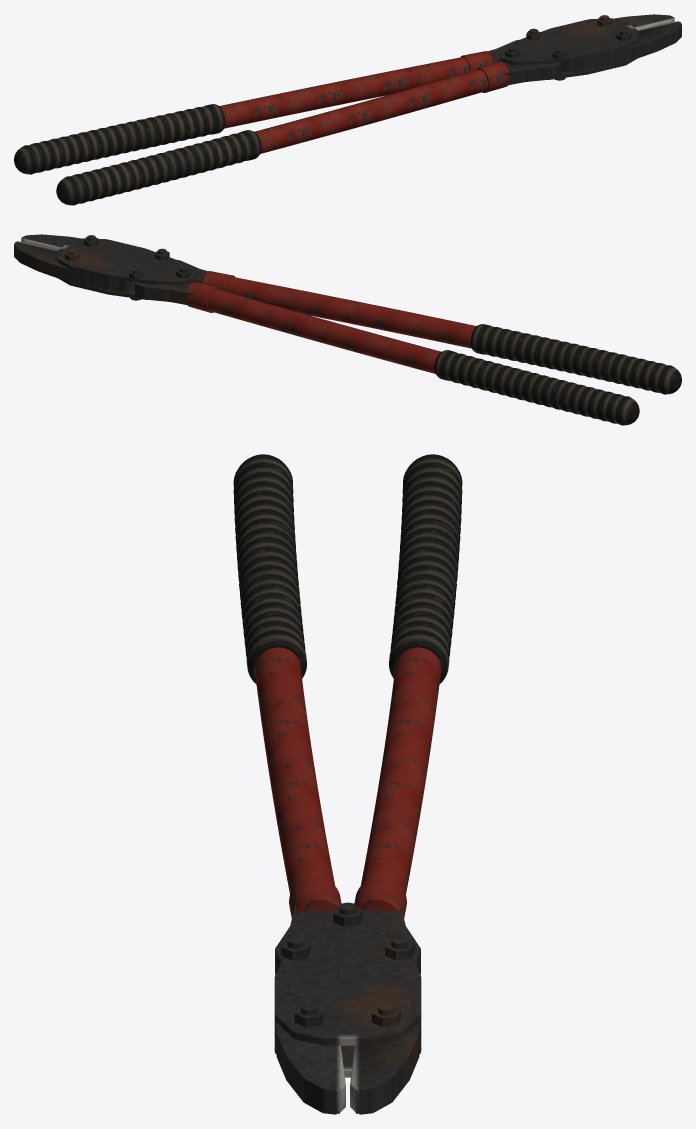
File: BoltCutter.glb
3 renders of one model, top to bottom at view 1: azimuth 30°, elevation 25°; view 2: azimuth 150°, elevation 25°; view 3: azimuth 270°, elevation 25°, orthographic. The views are drawn at different scales.
Parts seen in each view (by area): view 1: Grip_Upper, Grip_Lower, HandleTube_Upper, HandleTube_Lower, HeadPlate_Top, Jaw_Lower, HandleHead_Lower, Bolts, Ferrule_Lower, Jaw_Upper, Ferrule_Upper, HeadPlate_Bottom; view 2: Grip_Lower, Grip_Upper, HandleTube_Lower, HandleTube_Upper, HeadPlate_Top, Jaw_Upper, HandleHead_Upper, Bolts, Ferrule_Upper, Jaw_Lower, Ferrule_Lower, HeadPlate_Bottom; view 3: HeadPlate_Top, Grip_Lower, Grip_Upper, HandleTube_Lower, HandleTube_Upper, Jaw_Lower, Jaw_Upper, Bolts, Ferrule_Lower, Ferrule_Upper.
Boxes of the visible parts, box(x1,y1,x2,y2) form: Grip_Upper: box(14, 104, 225, 174); Grip_Lower: box(56, 130, 261, 205); HandleTube_Upper: box(220, 57, 469, 128); HandleTube_Lower: box(254, 69, 487, 153); HeadPlate_Top: box(500, 18, 639, 65); Jaw_Lower: box(560, 21, 681, 72); HandleHead_Lower: box(502, 62, 560, 86); Bolts: box(505, 15, 631, 80); Ferrule_Lower: box(476, 61, 510, 92); Jaw_Upper: box(614, 14, 674, 30); Ferrule_Upper: box(461, 51, 493, 71); HeadPlate_Bottom: box(548, 59, 636, 79); Grip_Lower: box(470, 324, 681, 394); Grip_Upper: box(434, 350, 639, 425); HandleTube_Lower: box(226, 277, 475, 348); HandleTube_Upper: box(208, 289, 441, 373); HeadPlate_Top: box(56, 238, 195, 285); Jaw_Upper: box(14, 241, 135, 292); HandleHead_Upper: box(135, 282, 193, 306); Bolts: box(64, 235, 190, 300); Ferrule_Upper: box(185, 281, 219, 312); Jaw_Lower: box(21, 234, 81, 250); Ferrule_Lower: box(202, 271, 234, 291); HeadPlate_Bottom: box(59, 279, 147, 299); HeadPlate_Top: box(274, 912, 421, 1045); Grip_Lower: box(233, 454, 306, 684); Grip_Upper: box(389, 454, 462, 684); HandleTube_Lower: box(254, 647, 335, 894); HandleTube_Upper: box(360, 647, 441, 894); Jaw_Lower: box(275, 1021, 345, 1114); Jaw_Upper: box(350, 1021, 420, 1114); Bolts: box(281, 902, 414, 1026); Ferrule_Lower: box(289, 877, 341, 918); Ferrule_Upper: box(354, 877, 406, 918).
Size of the model in its own units: 0.7678 by 0.0331 by 0.1189.
3 materials, 3 textured.
